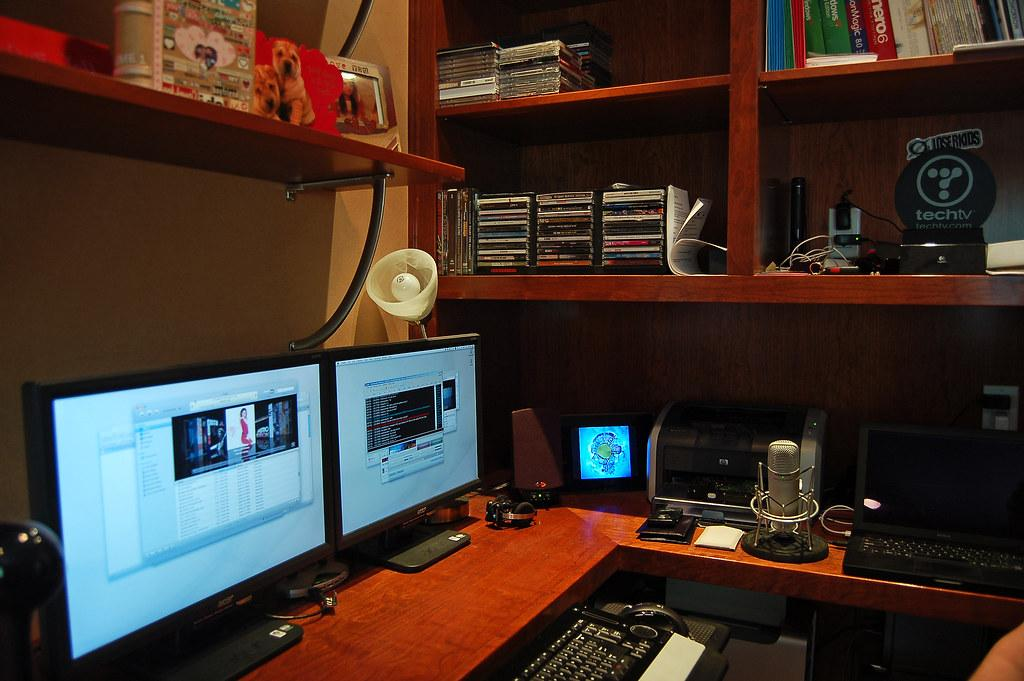computer: (21, 349, 336, 680), (327, 332, 484, 573), (842, 421, 1024, 597)
